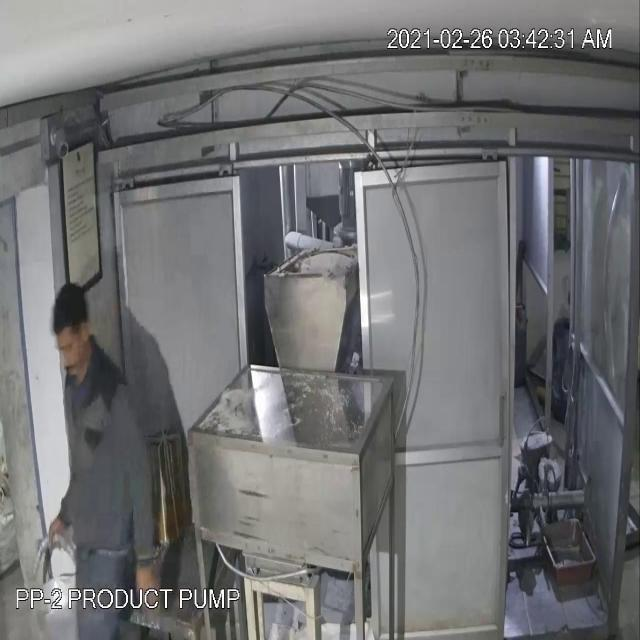no-helmet: (45, 281, 95, 398)
